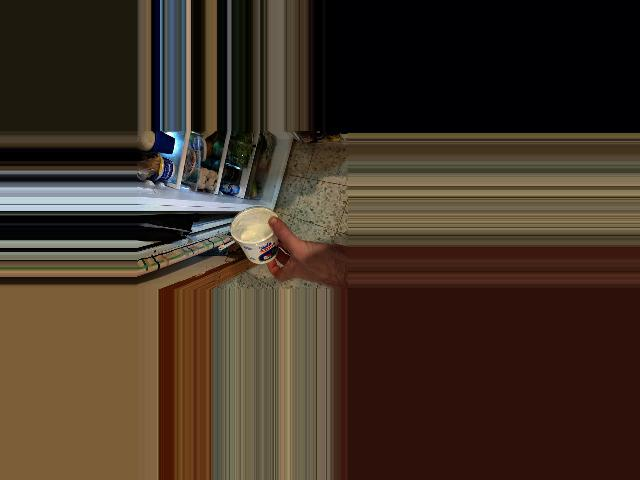cotage: (232, 205, 287, 261)
